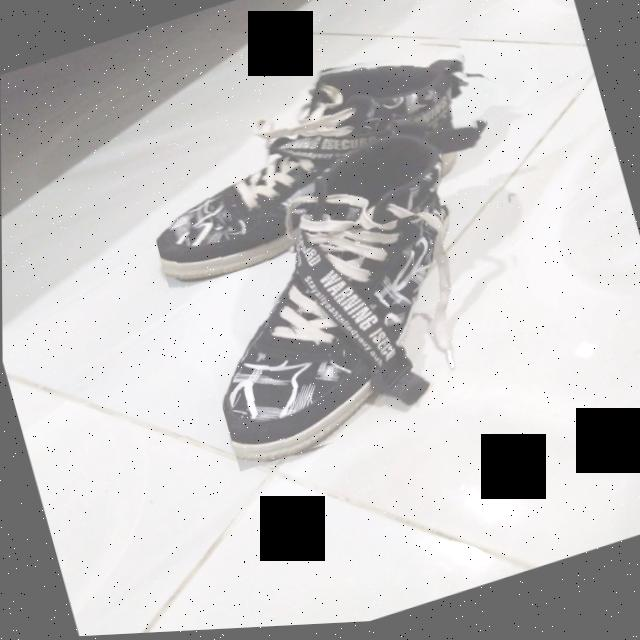shoe: (164, 103, 556, 477), (124, 28, 501, 295)
